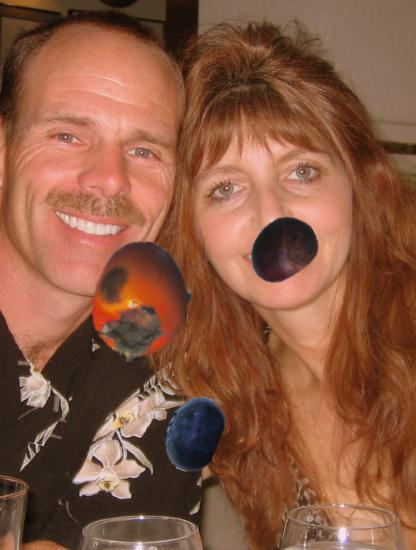Blueberry: (155, 395, 233, 473)
Chestnut: (247, 213, 319, 285)
Kaki: (80, 241, 203, 364)
